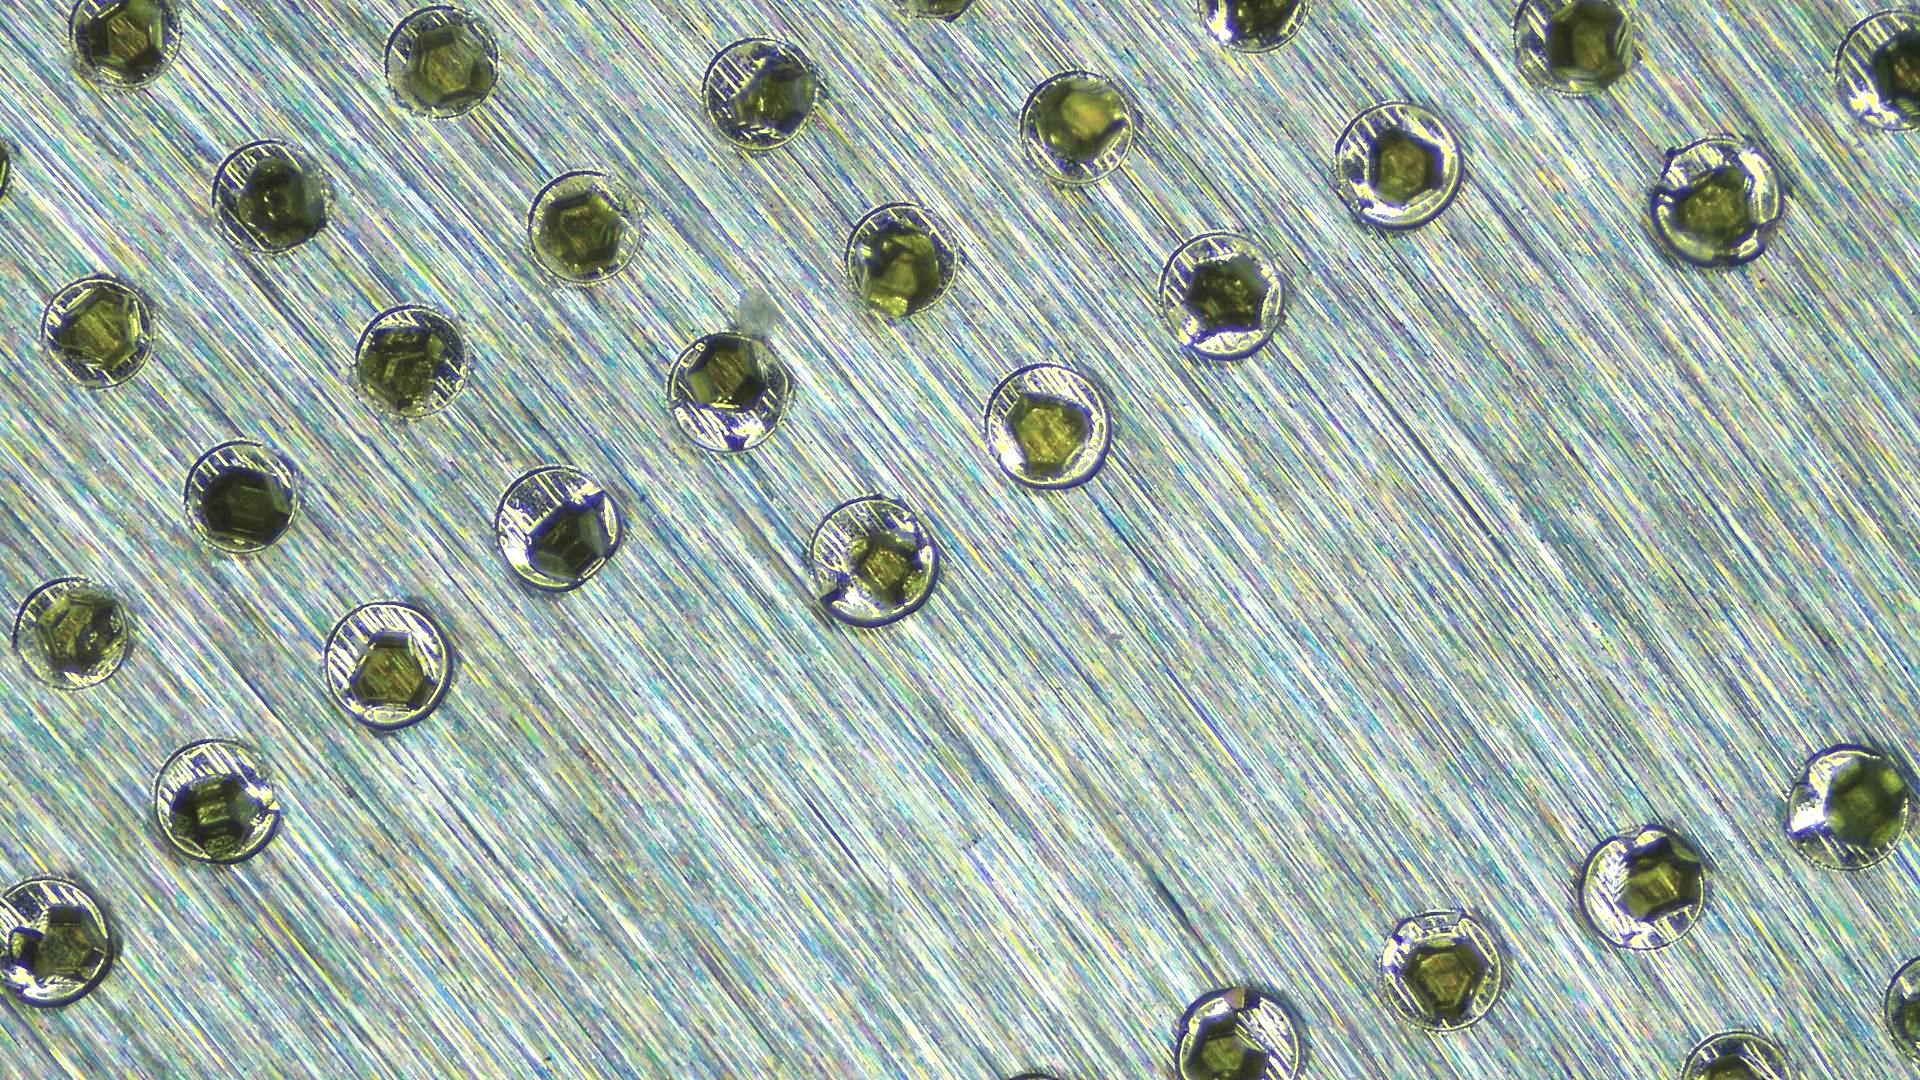twin: (835, 199, 965, 329), (10, 572, 138, 700), (0, 875, 116, 1004)
